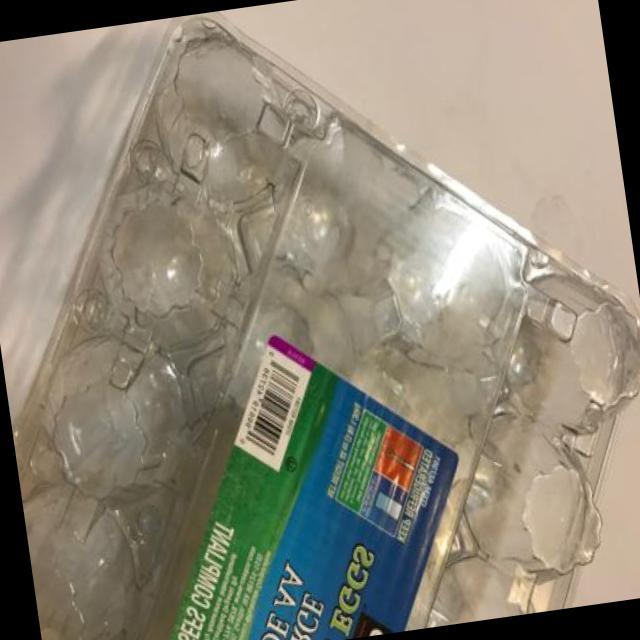Clamshell: (0, 0, 640, 640)
Label: (112, 302, 489, 640)
